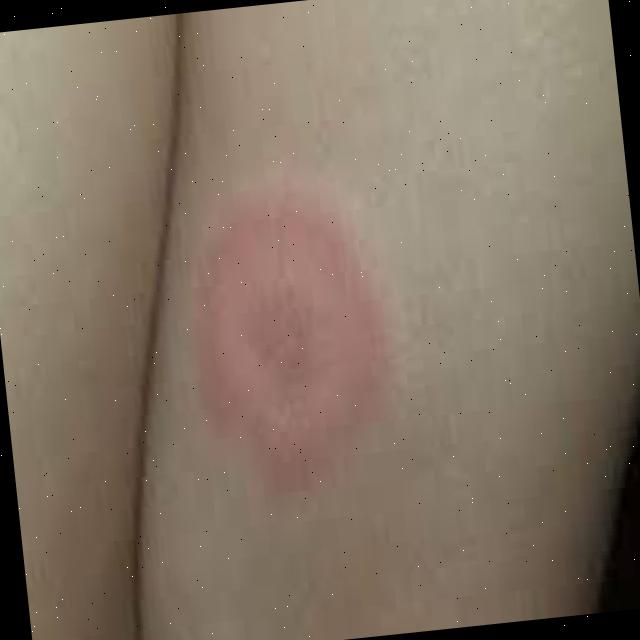kene: (176, 168, 415, 508)
